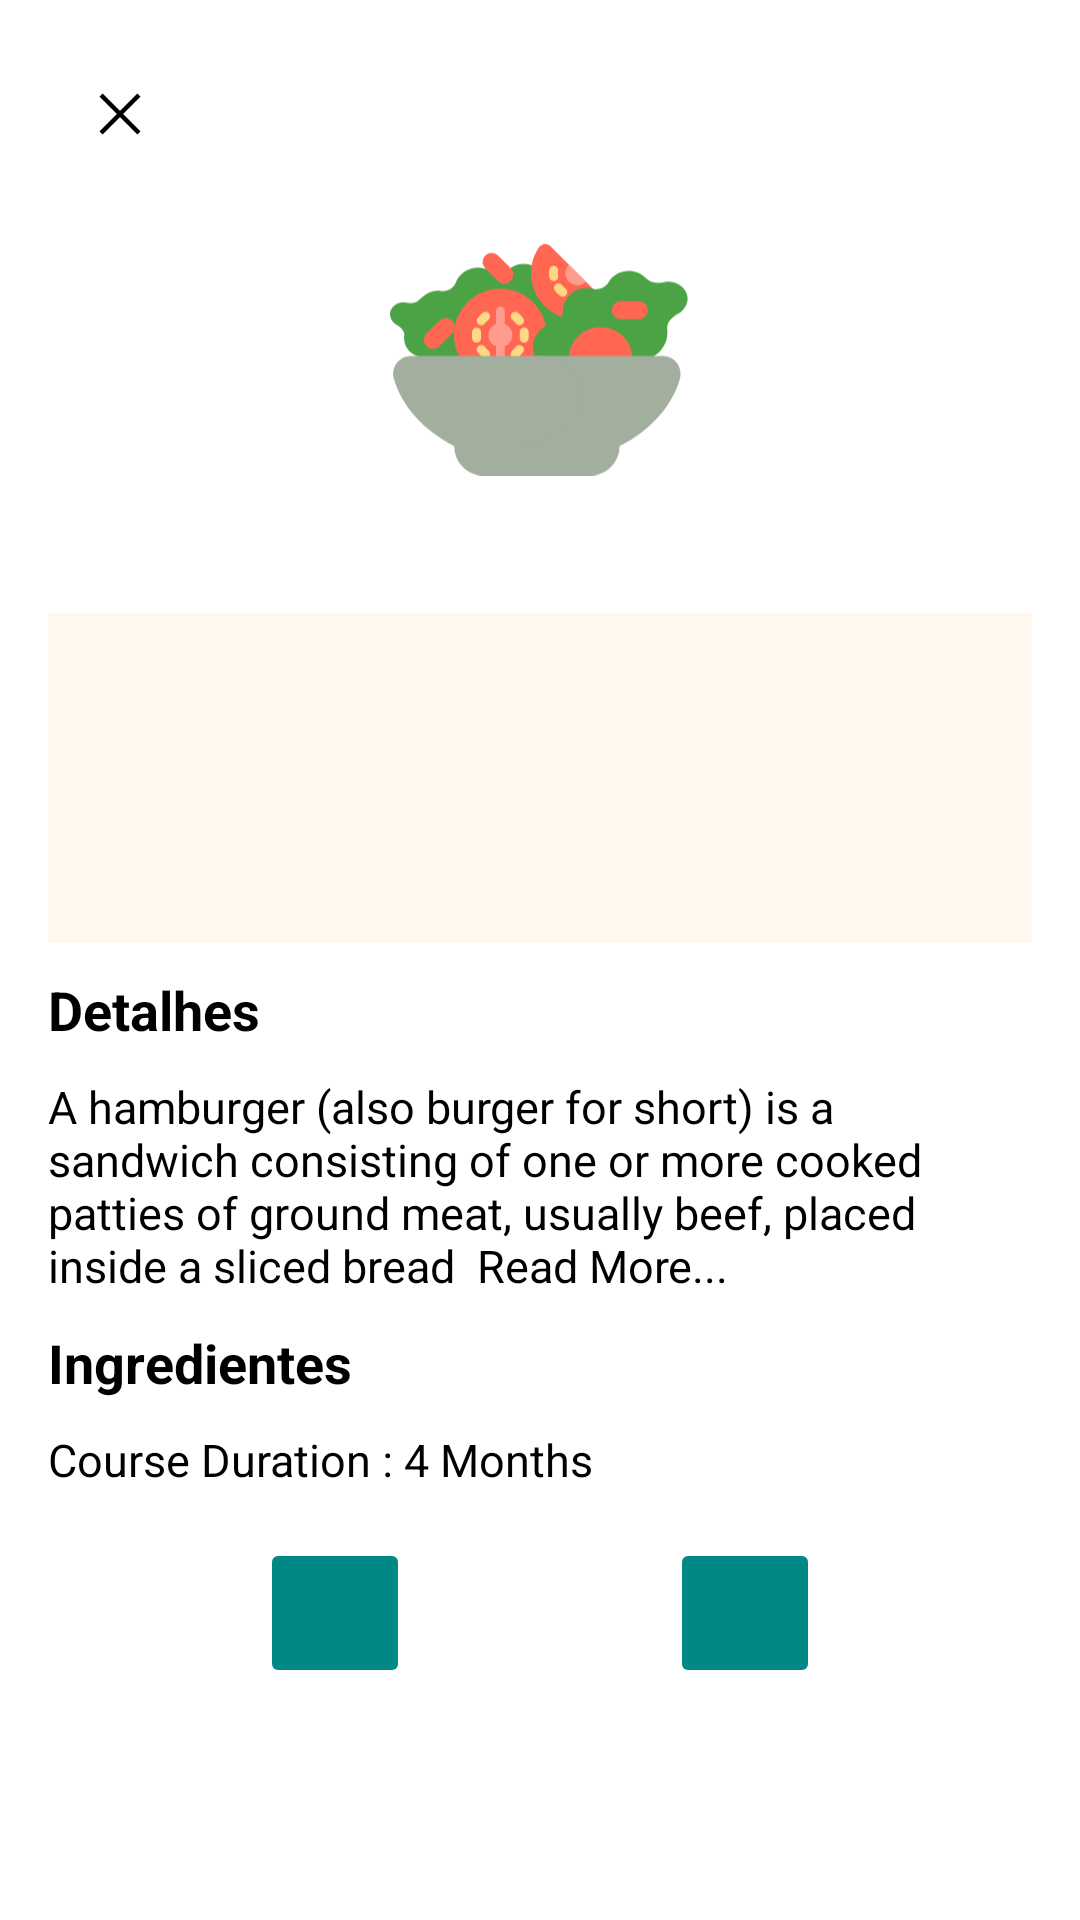

Icons on this 1080w x 1920h Android screen, each with its box as (x1, y1, x2, y2):
close: (99, 93, 141, 135)
recipe: (390, 244, 688, 476)
